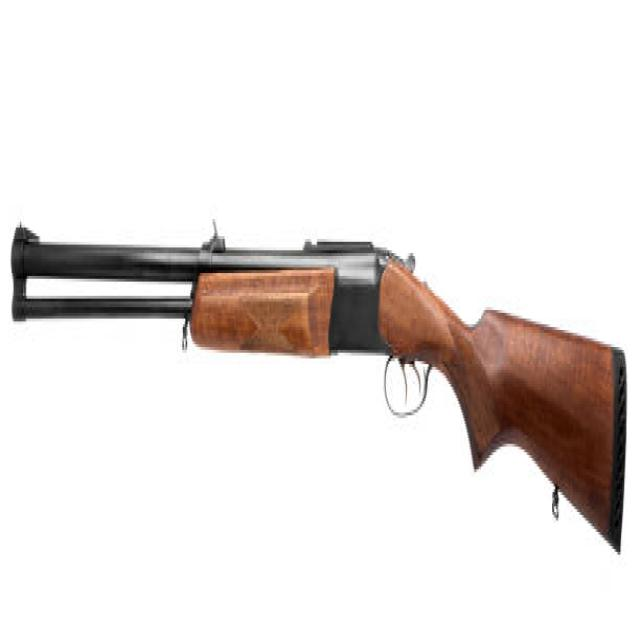rifle: (7, 189, 633, 569)
